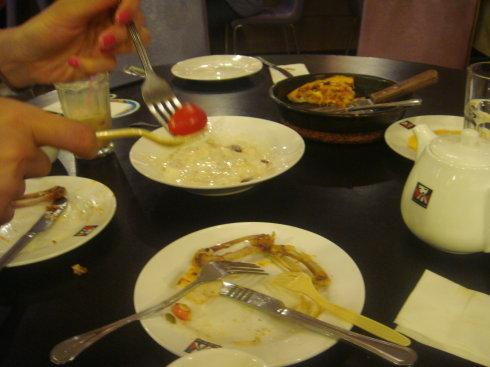food: (138, 215, 375, 348), (132, 102, 304, 201), (276, 57, 421, 128), (11, 170, 112, 263)
